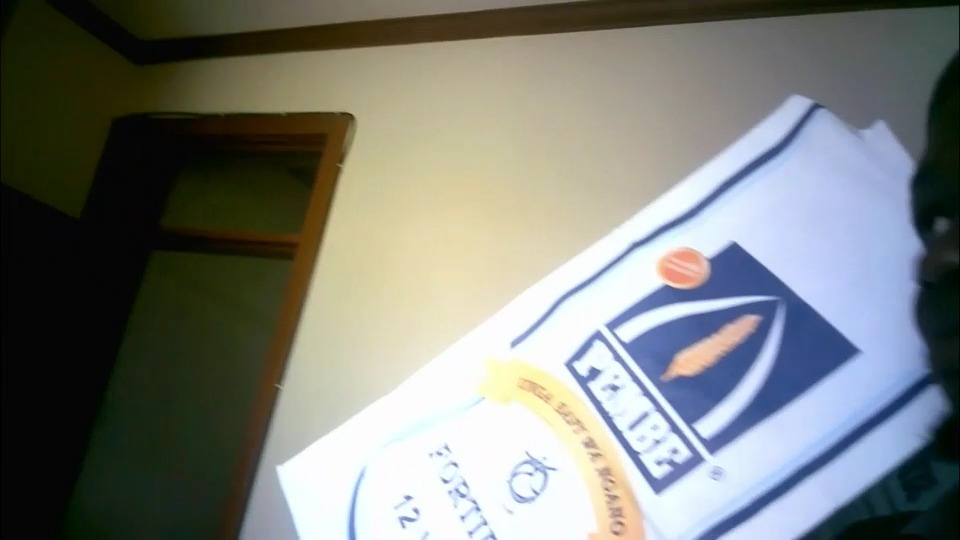wheat_flour_blue_label: (280, 95, 940, 538)
